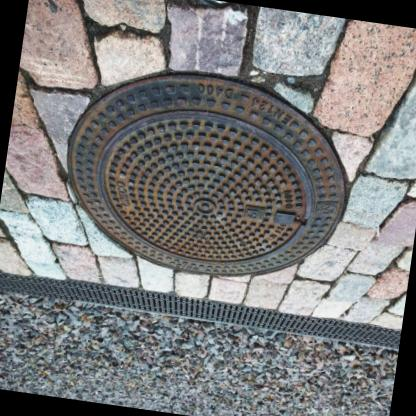manholes: (50, 36, 373, 314)
